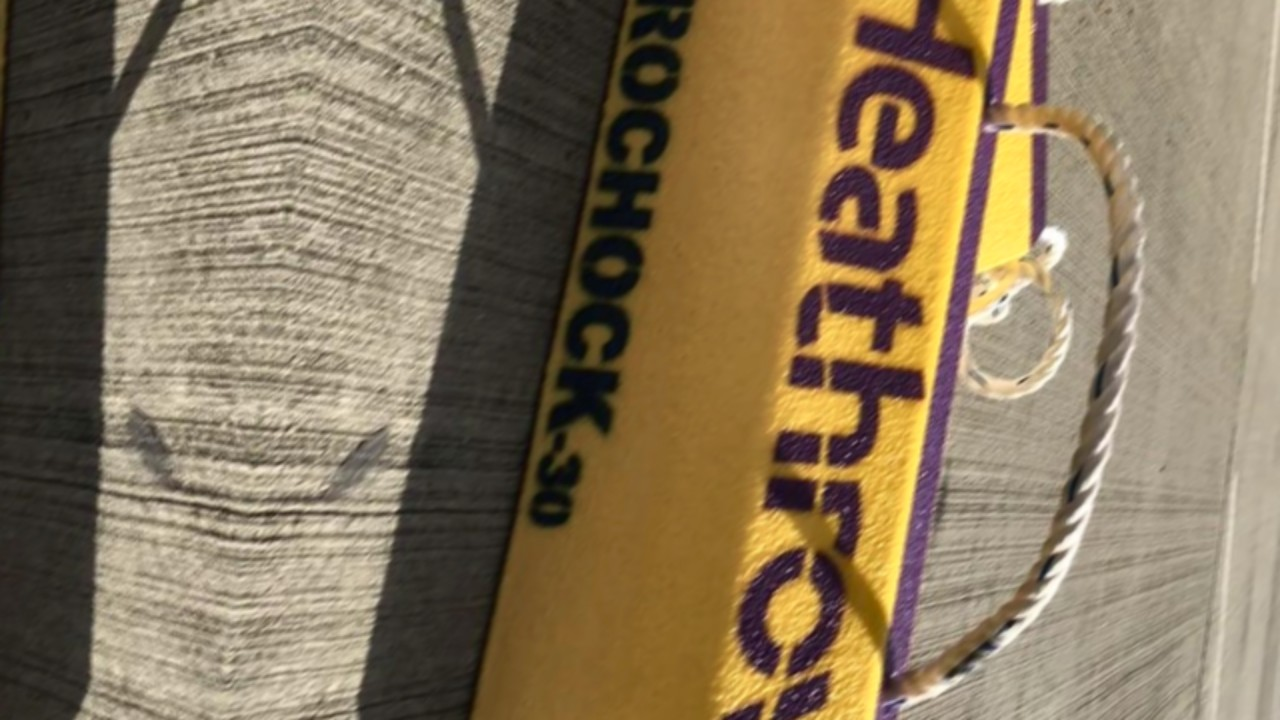chock: (405, 0, 1056, 720), (757, 0, 1181, 281), (0, 0, 124, 720)
